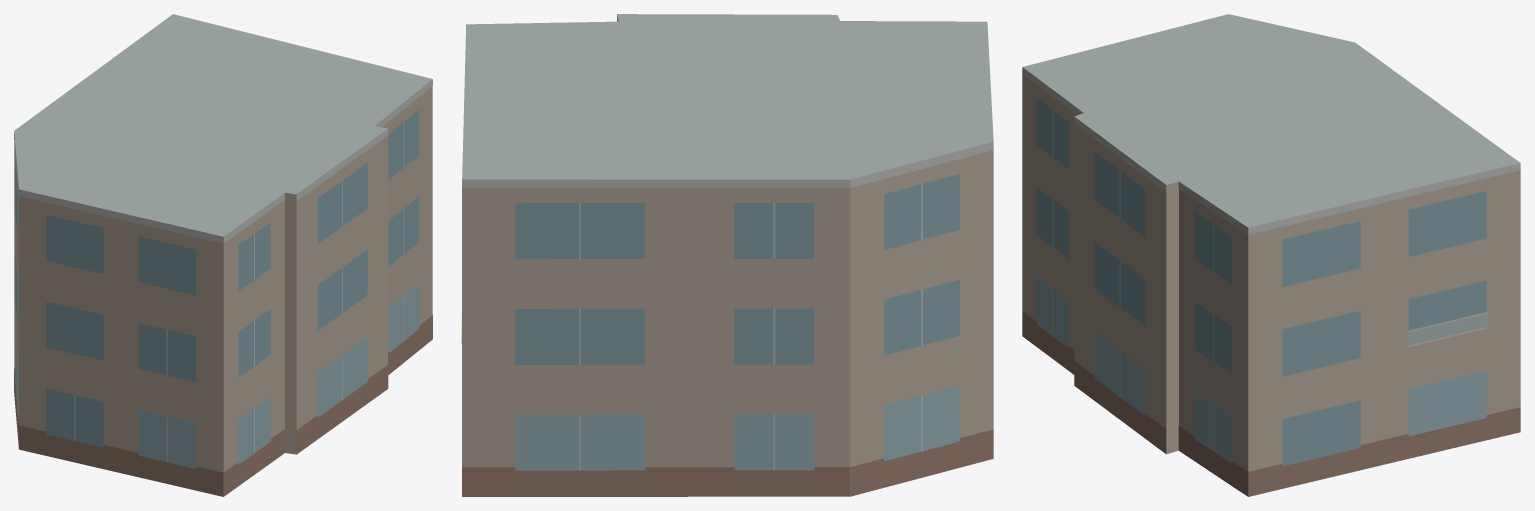
File: survey-upis-32706643.glb
3 renders of one model, left to right at view 1: azimuth 30°, elevation 25°; view 2: azimuth 150°, elevation 25°; view 3: azimuth 270°, elevation 25°, orthographic. The views are drawn at different scales.
Visible parts, largest first — view 1: survey-upis-32706643.tmp; view 2: survey-upis-32706643.tmp; view 3: survey-upis-32706643.tmp.
Part boxes in pixels (x1=…): survey-upis-32706643.tmp: x1=14, y1=14, x2=432, y2=496; survey-upis-32706643.tmp: x1=461, y1=14, x2=993, y2=496; survey-upis-32706643.tmp: x1=1022, y1=14, x2=1520, y2=496.
Bounding box in the file's own units: 15.59 × 9.15 × 15.36.
